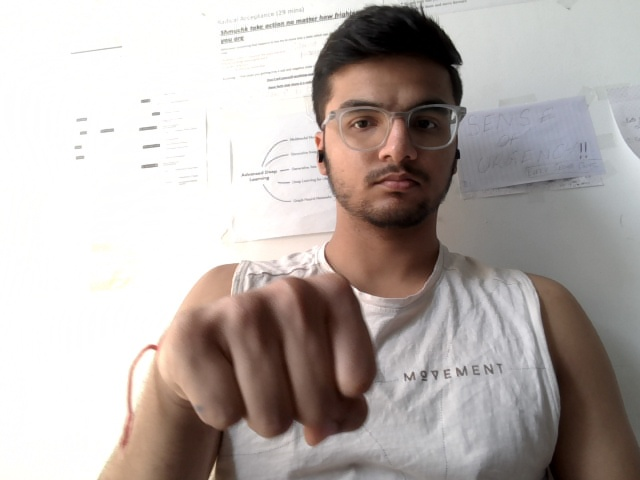yes: (93, 262, 433, 460)
